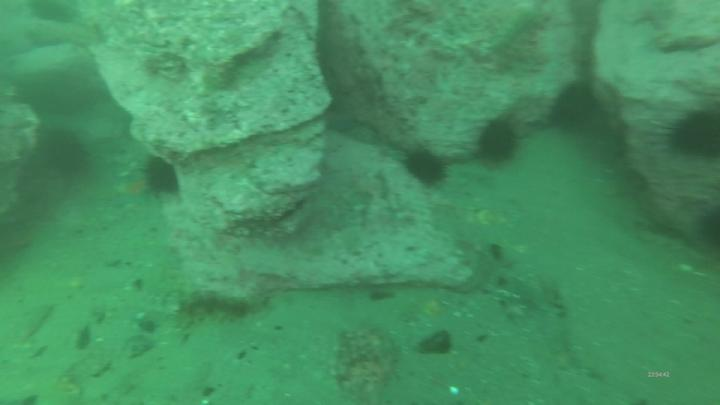echinus: (481, 122, 519, 165), (409, 154, 445, 184), (146, 160, 178, 193)
holothurian: (178, 293, 268, 324), (490, 8, 537, 51)
starfish: (47, 141, 88, 180), (121, 174, 149, 207), (327, 113, 358, 131)
